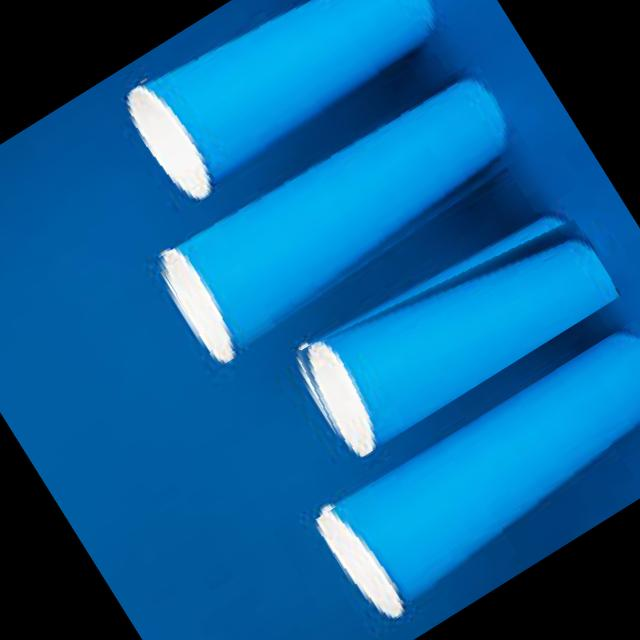PaperCardboard: (165, 78, 505, 354), (313, 334, 640, 611), (310, 231, 620, 456), (134, 0, 423, 195)
